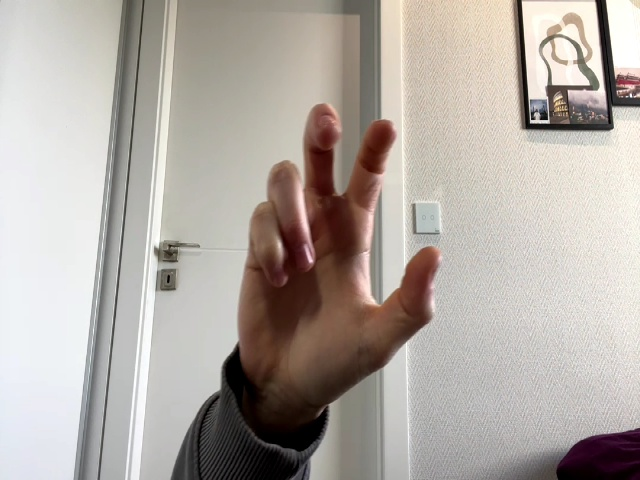CH: (238, 103, 443, 396)
